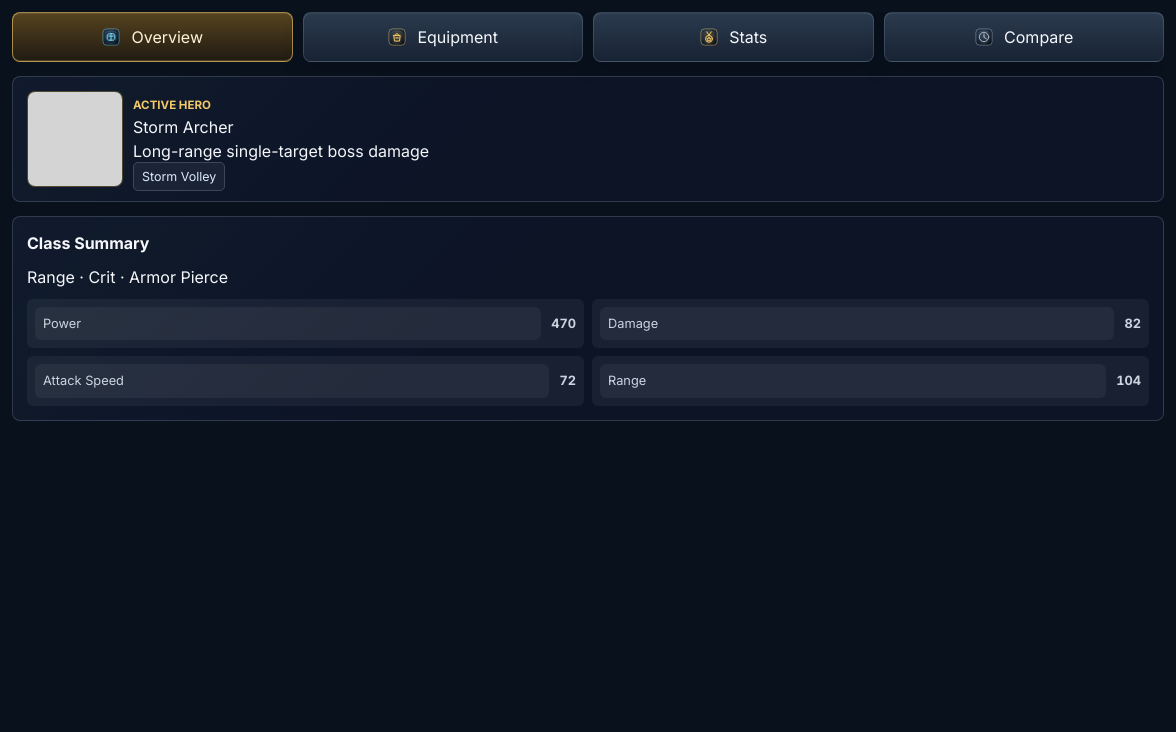
Scenario: HeroInventoryPanel equipment swaps › shows four equipped slots with Change actions and no Unequip action
Click the tab "Equipment" at {"x": 443, "y": 37}, box [302,12,583,62]
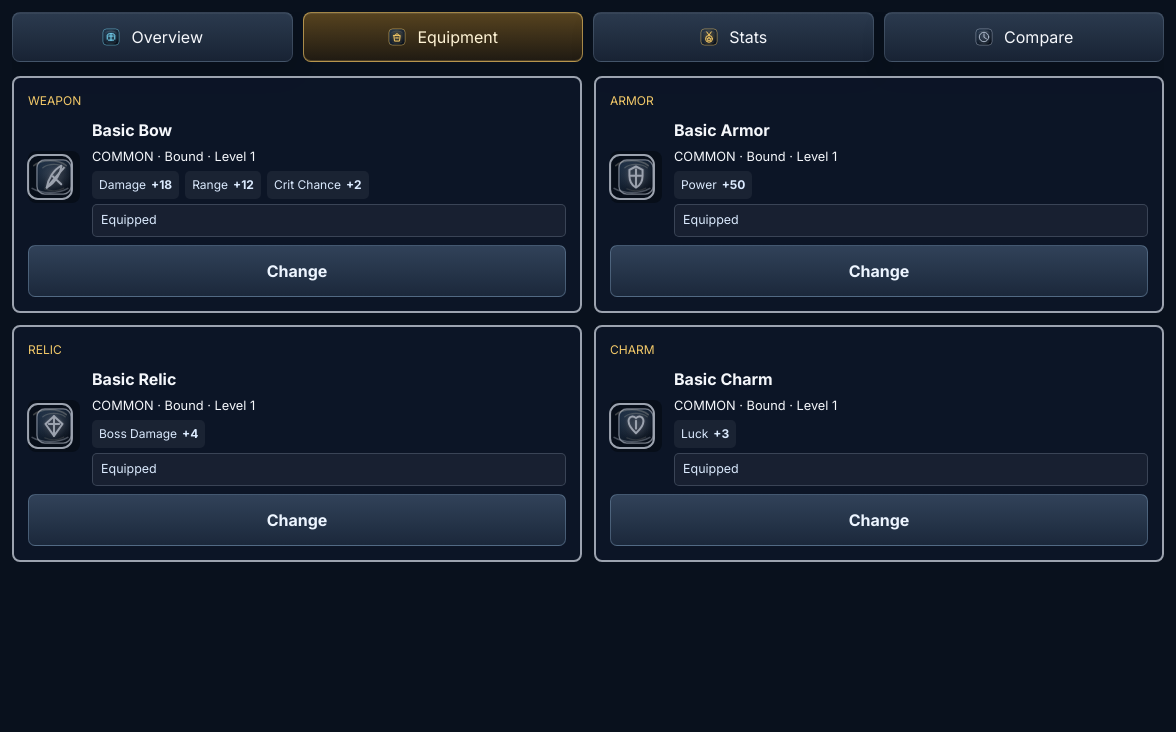
expect the text "Basic Bow" is shown: met, box [92,120,172,140]
expect the text "Equipped" is shown 4 times: met, box [92,204,566,237]; [674,204,1148,237]; [92,453,566,486]; [674,453,1148,486]
expect the number of buttons "Change" is 4: met, box [28,245,566,297]; [610,245,1148,297]; [28,494,566,546]; [610,494,1148,546]
